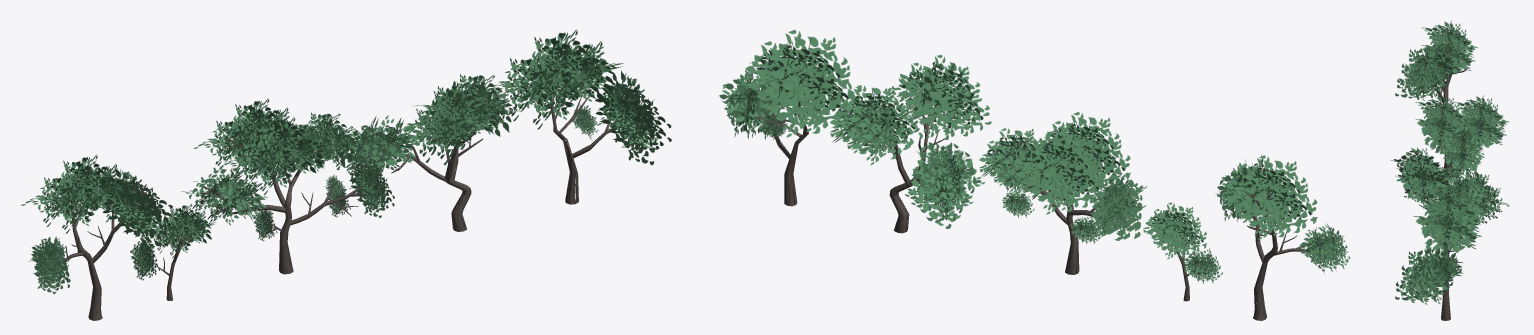
The model's file is trees.glb.
3 views of the same model, side by side, from view 1: azimuth 30°, elevation 25°; view 2: azimuth 150°, elevation 25°; view 3: azimuth 270°, elevation 25° (orthographic). The views are drawn at different scales.
Parts seen in each view (by area): view 1: DeadTree_8, DeadTree_6, DeadTree_10, DeadTree_7, DeadTree_9; view 2: DeadTree_7, DeadTree_8, DeadTree_6, DeadTree_10, DeadTree_9; view 3: DeadTree_6, DeadTree_8, DeadTree_10, DeadTree_7.
Part boxes in pixels (left/top/right/bottom): DeadTree_8: left=181, top=98, right=394, bottom=274; DeadTree_6: left=486, top=29, right=671, bottom=204; DeadTree_10: left=21, top=154, right=177, bottom=320; DeadTree_7: left=333, top=74, right=520, bottom=231; DeadTree_9: left=130, top=203, right=216, bottom=300; DeadTree_7: left=830, top=55, right=991, bottom=233; DeadTree_8: left=979, top=112, right=1147, bottom=274; DeadTree_6: left=719, top=30, right=861, bottom=206; DeadTree_10: left=1215, top=154, right=1350, bottom=320; DeadTree_9: left=1143, top=202, right=1222, bottom=301; DeadTree_6: left=1395, top=185, right=1484, bottom=320; DeadTree_8: left=1404, top=95, right=1508, bottom=212; DeadTree_10: left=1395, top=21, right=1477, bottom=147; DeadTree_7: left=1390, top=147, right=1509, bottom=276.
Size of the model in its own units: 32.51 by 8.86 by 8.34.
2 materials, 2 textured.
